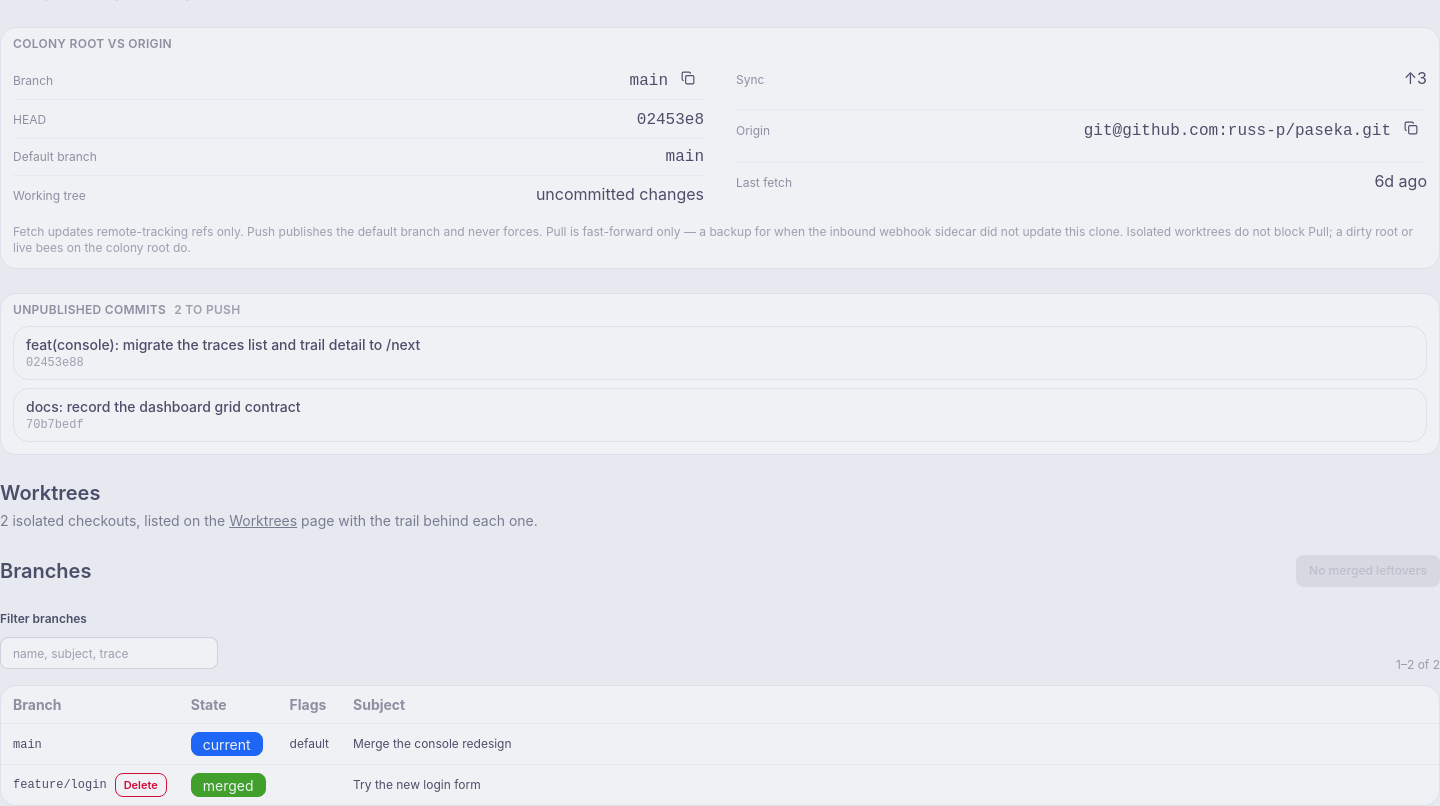
git route › deletes one branch from its own row, the way the sweep would have skipped it
The width and height of the screenshot is (1440, 806).
(page scrolled)
Expected: the text "feature/login" is shown, [13,776,107,794]
Expected: the button "No merged leftovers" is disabled, [1296,555,1439,587]
Click the button with aria-label "Delete feature/login": (141, 785) [115,773,167,797]
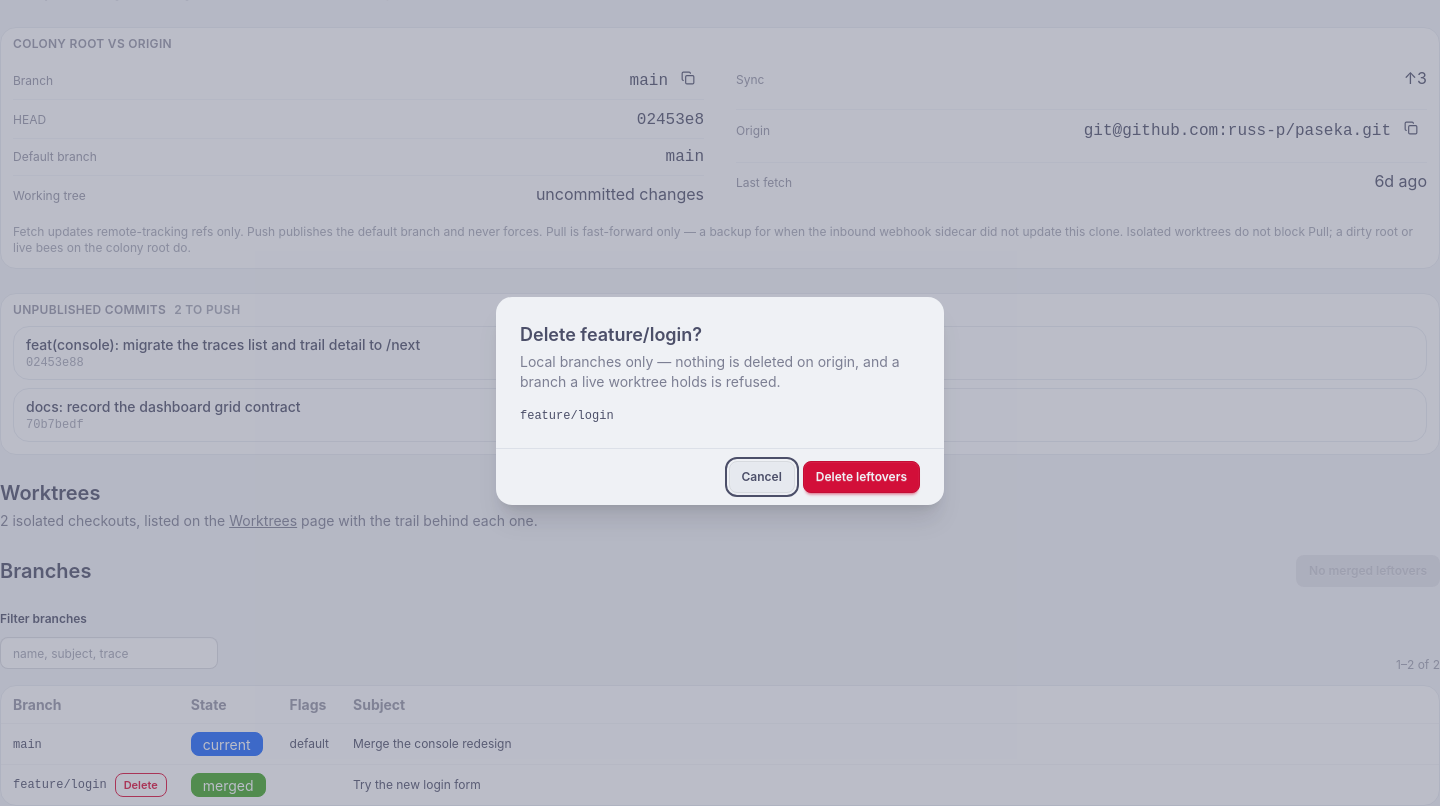
Result: the list item "feature/login" is shown at [520,409,614,423]
Click the button "Delete leftovers": (861, 477) [803,461,920,493]
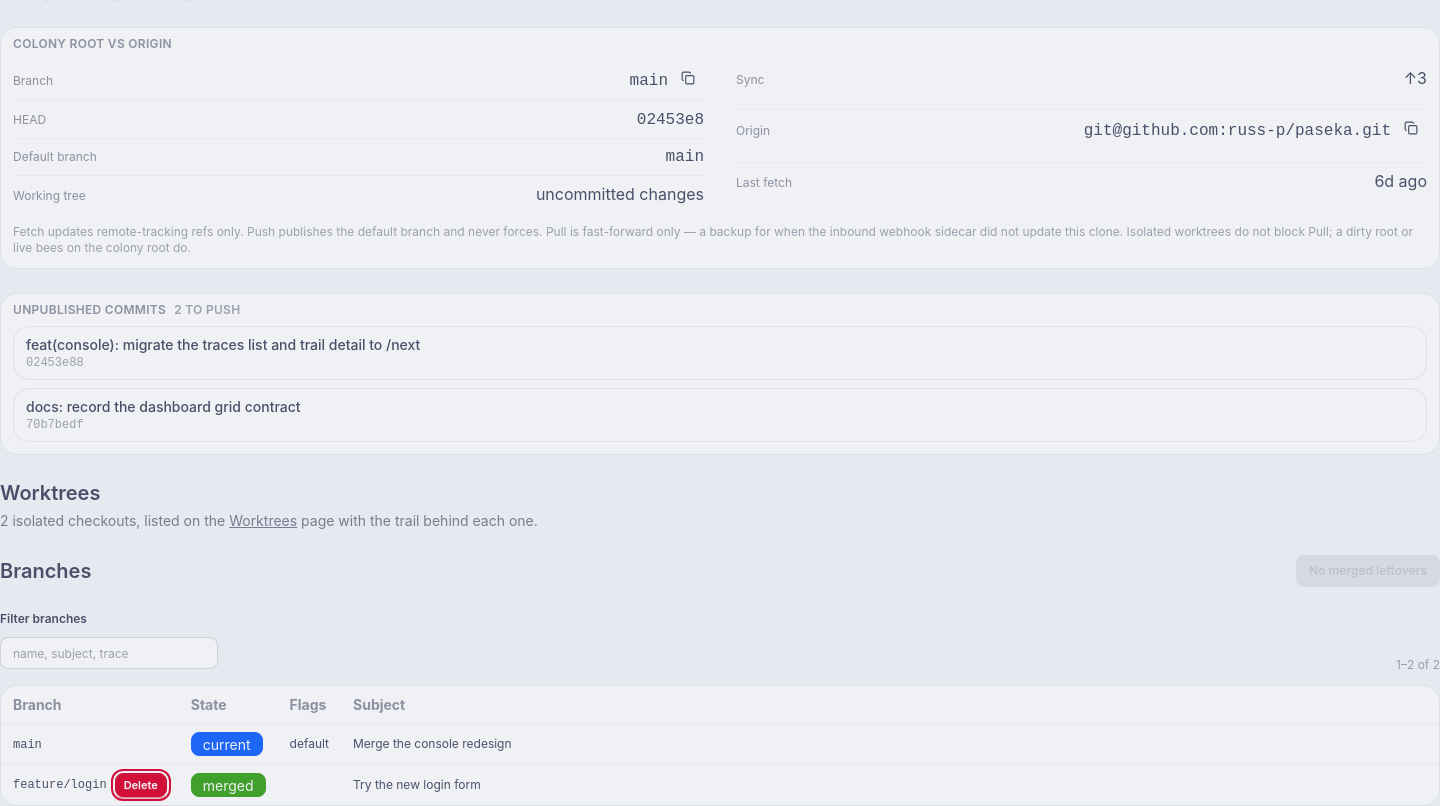
Result: the dialog is gone
